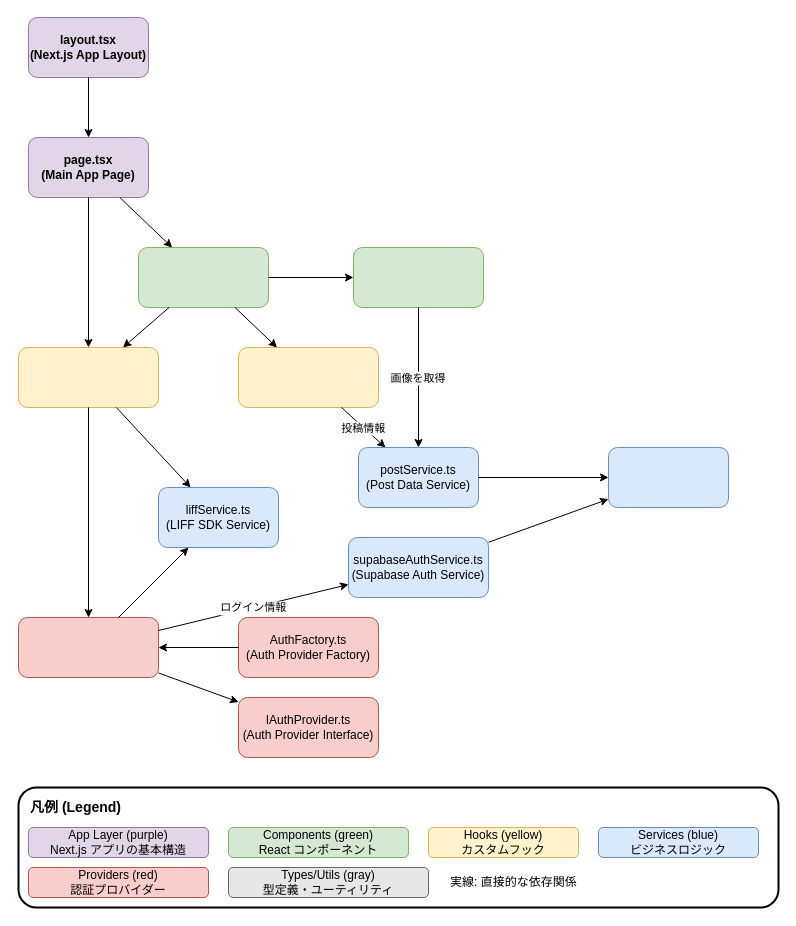
The diagram is 796 pixels wide and 926 high, and some of its shapes have lost their labels. Here are the shapes that lost their labels. From the top down, the centre of each, then its label:
At (203,277): "PostList.tsx (Post List Component)".
At (418,277): "PostCard.tsx (Post Card Component)".
At (88,377): "useLineUserAuth.ts (LINE Auth Hook)".
At (308,377): "usePost.ts (Post Data Hook)".
At (668,477): "supabaseClient.ts (Supabase Client)".
At (88,647): "LineAuthProvider.ts (LINE Auth Provider)".
